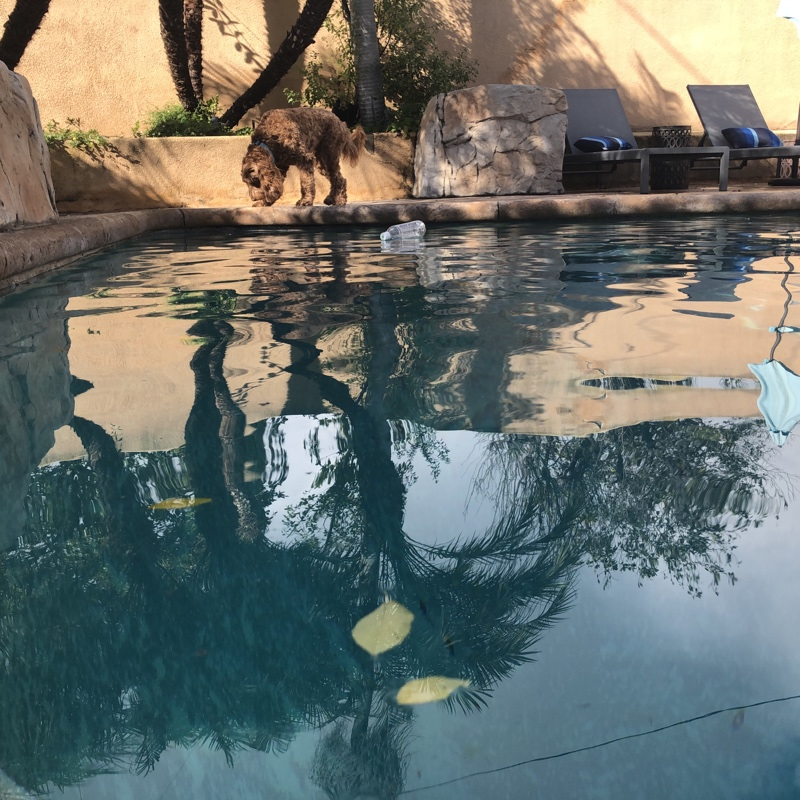Plastic Bottle: (377, 220, 427, 242)
